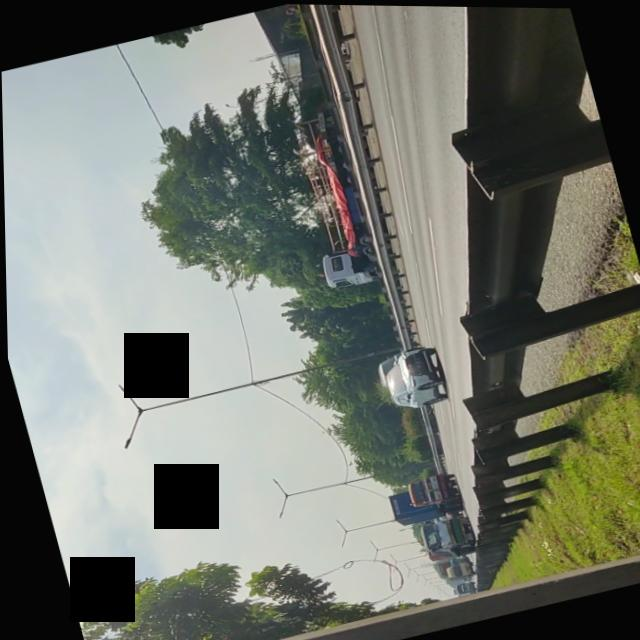Golongan I: (370, 338, 455, 419)
